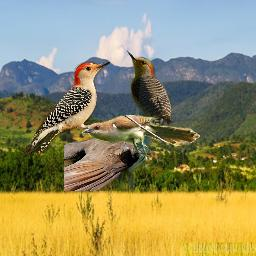Cuckoo: (64, 115, 163, 191), (82, 115, 201, 157)
Woodpecker: (20, 61, 110, 158), (126, 50, 172, 140)
